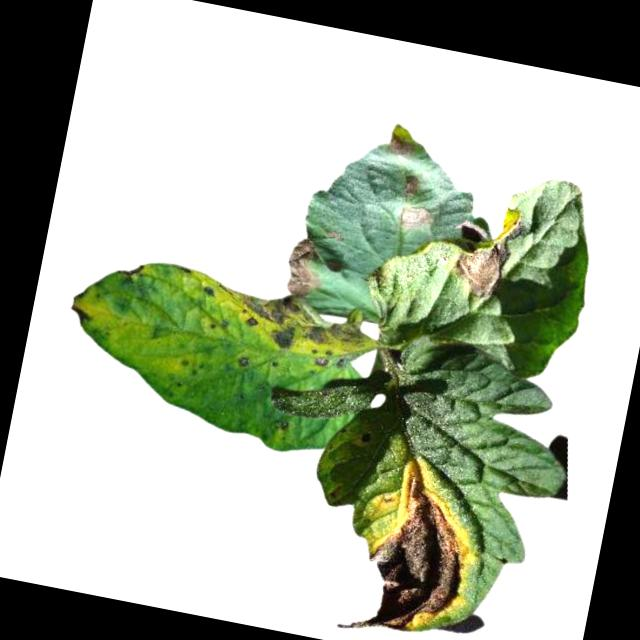Early_blight: (333, 457, 486, 640), (209, 286, 378, 380), (449, 198, 526, 306), (283, 235, 324, 300), (66, 289, 96, 326), (389, 130, 417, 159), (397, 202, 426, 229), (400, 174, 421, 199), (323, 224, 347, 243)
